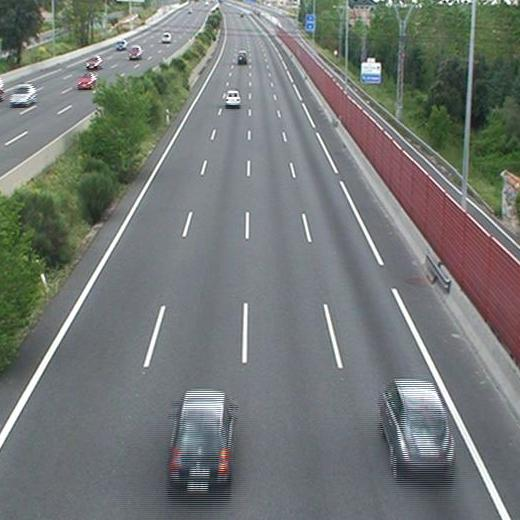car: (382, 382, 454, 471), (167, 391, 231, 490), (226, 90, 240, 104)
van: (237, 51, 247, 65)
